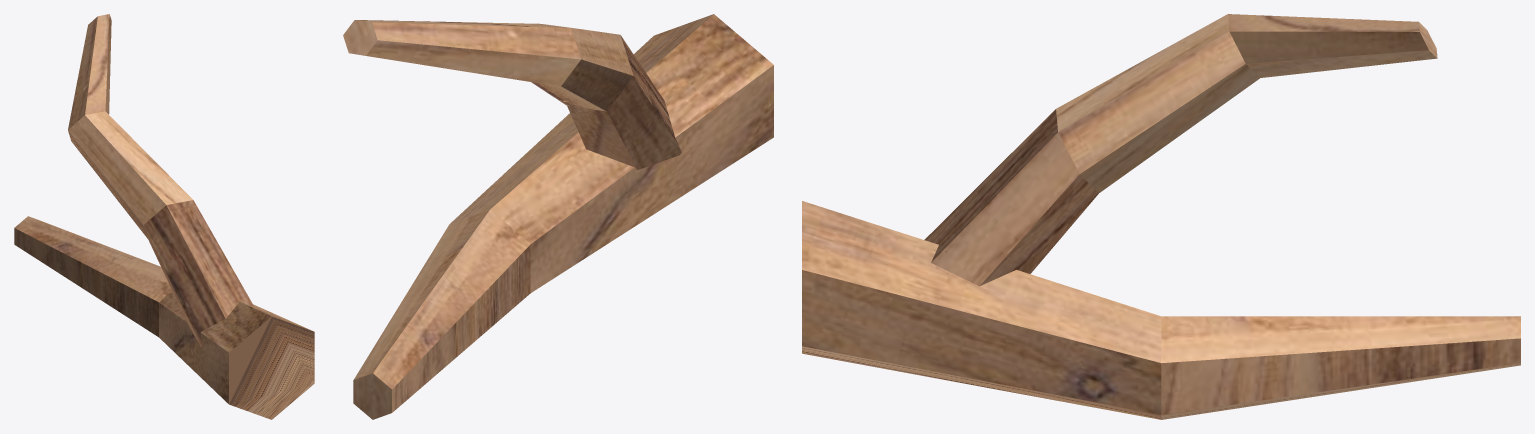
File: left_hand.gltf
The picture shows the model from 3 angles, left to right: view 1: azimuth 30°, elevation 25°; view 2: azimuth 150°, elevation 25°; view 3: azimuth 270°, elevation 25°; orthographic projection. The views are drawn at different scales.
Visible parts, largest first — view 1: Cylinder.003; view 2: Cylinder.003; view 3: Cylinder.003.
Part boxes in pixels (left/top/right/bottom): Cylinder.003: left=14, top=14, right=314, bottom=419; Cylinder.003: left=343, top=14, right=773, bottom=419; Cylinder.003: left=802, top=14, right=1520, bottom=419.
Size of the model in its own units: 14.98 by 31.6 by 51.97.
1 material, 1 textured.
